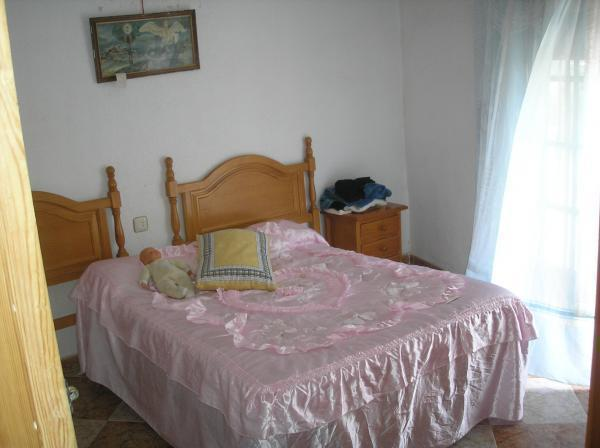Cama: (102, 196, 524, 444)
Ventana: (520, 55, 599, 332)
